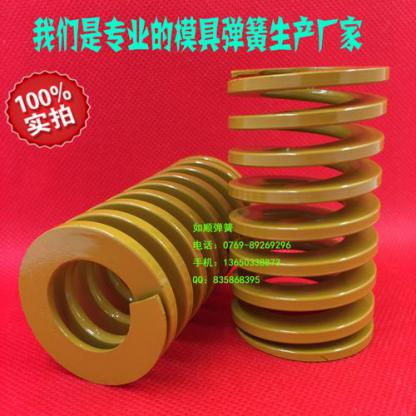FOD: (15, 151, 245, 391), (224, 58, 388, 365)
